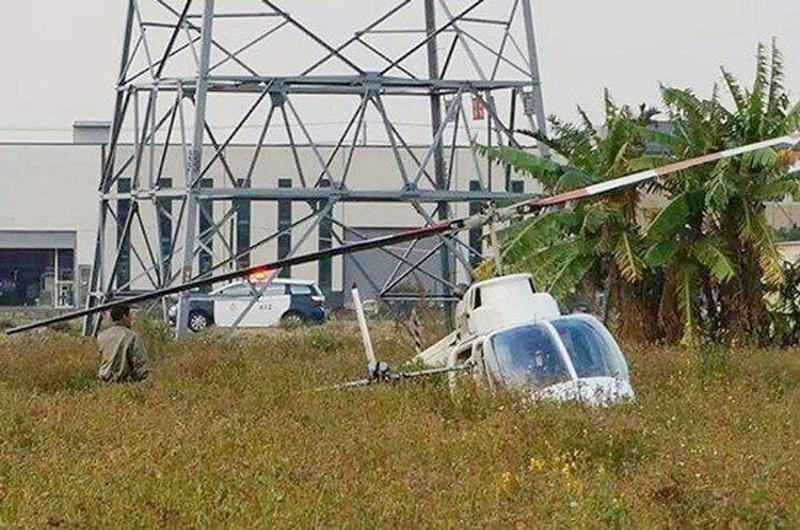power_tower: (114, 1, 532, 267)
